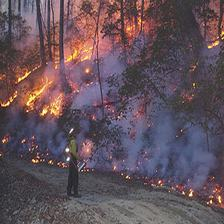fire: (1, 18, 144, 115), (186, 178, 224, 209), (111, 157, 141, 182), (21, 133, 44, 165), (149, 176, 184, 192), (205, 29, 224, 53), (48, 157, 65, 170), (1, 132, 11, 145)
